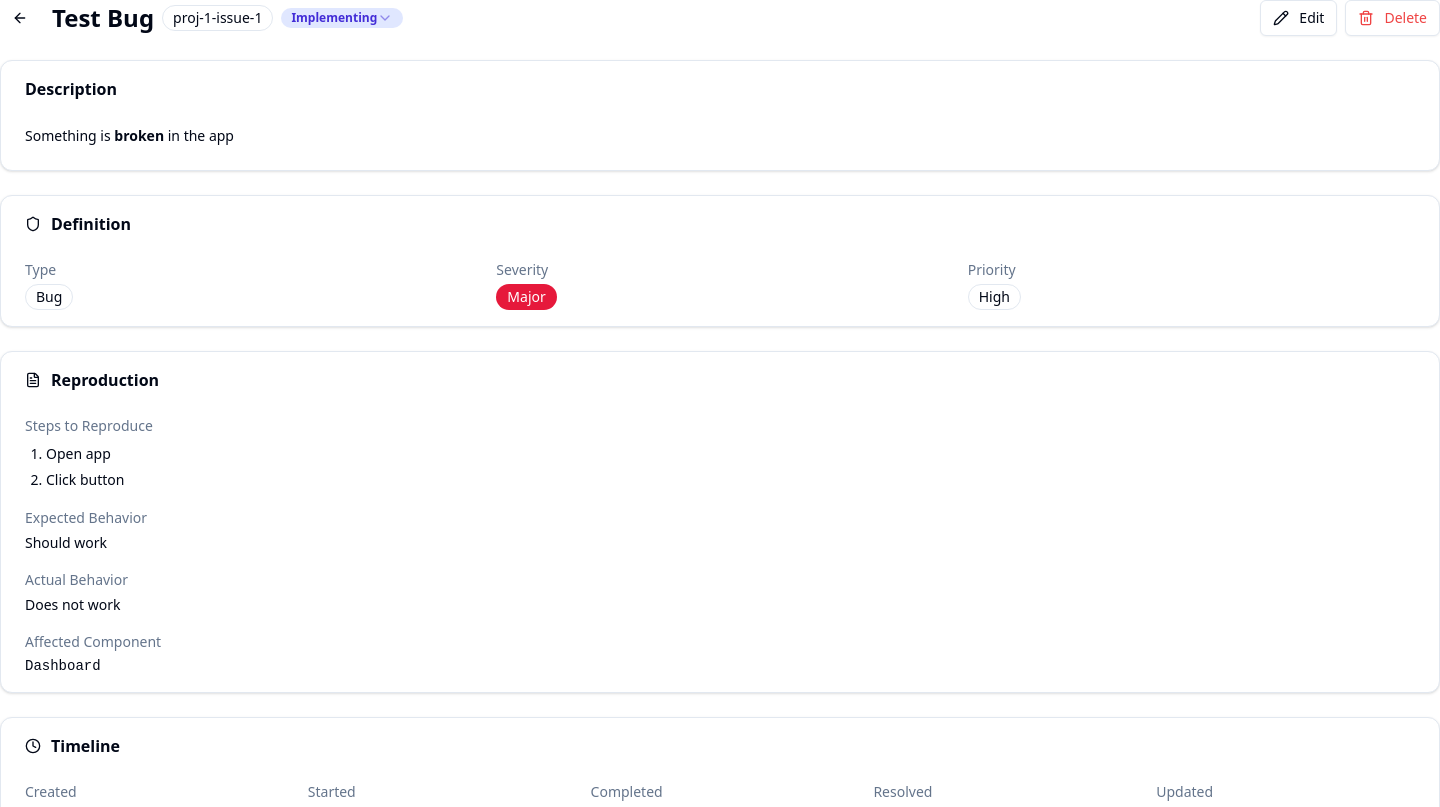
IssueDetailPage › shows delete confirmation dialog
Expected: the heading "Test Bug" is shown, [52, 2, 154, 34]
Click the button "Delete" at (1393, 18), box [1345, 0, 1439, 36]
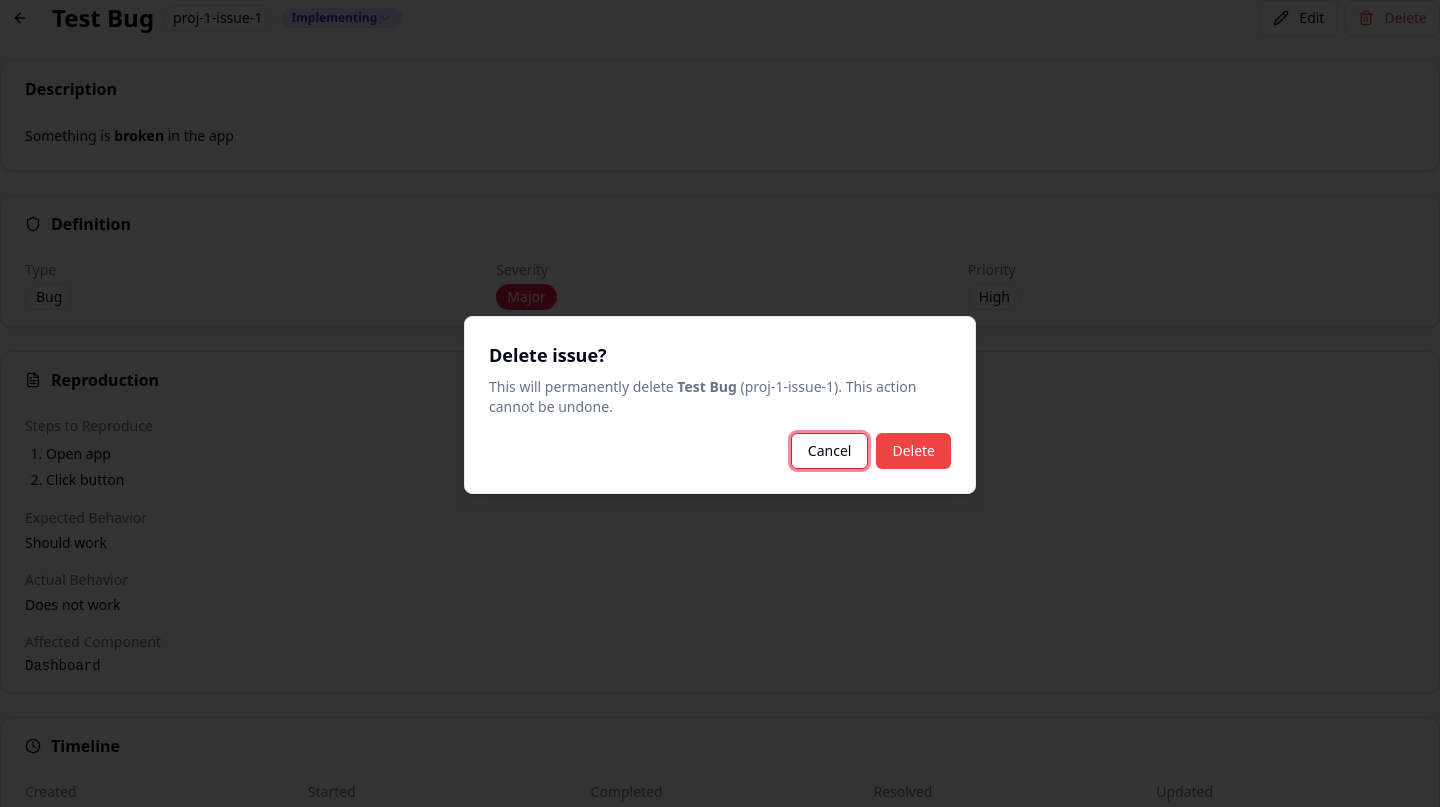
Now the heading "Delete issue?" is shown, box [489, 343, 607, 367]
Now the text "permanently delete" is shown, box [489, 377, 677, 396]
